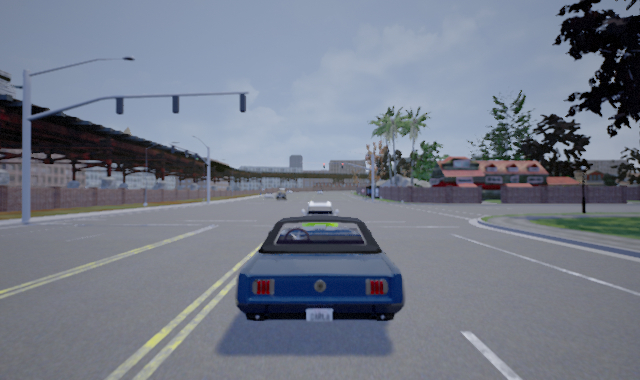traffic_light: (322, 162, 326, 170), (341, 162, 344, 169)
vehicle: (236, 215, 404, 323), (298, 200, 342, 242), (275, 192, 287, 202)
